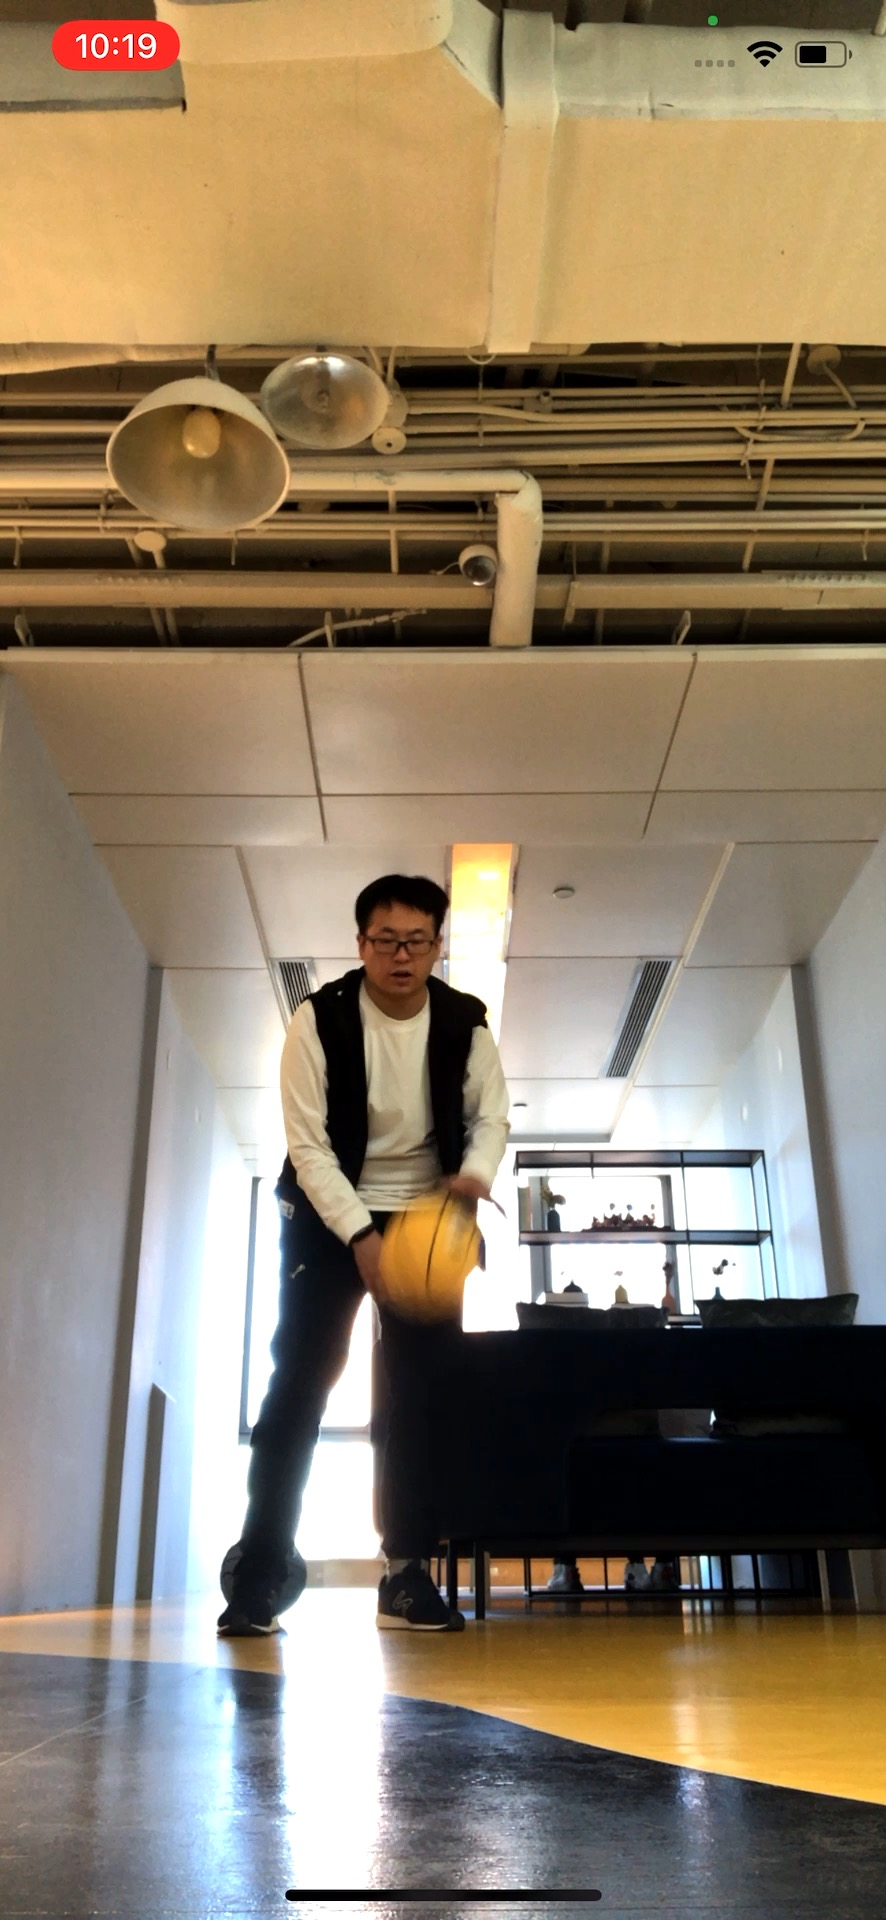ball: (376, 1196, 486, 1314)
